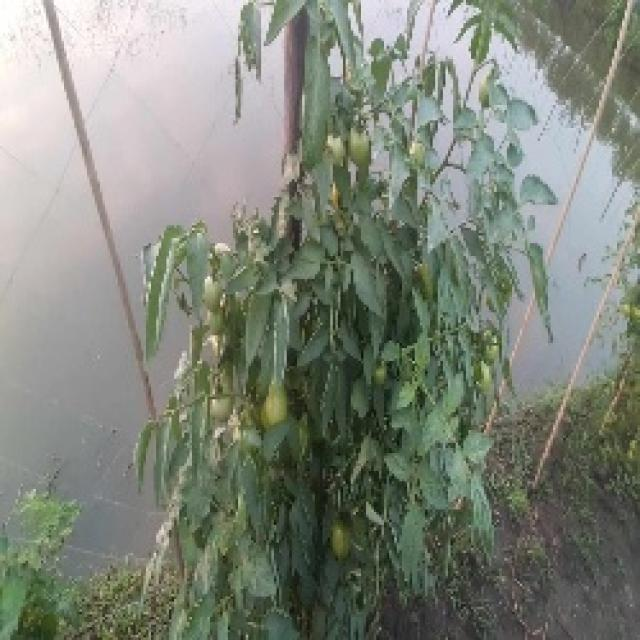tomato: (254, 382, 297, 423), (344, 121, 382, 166), (199, 277, 239, 311), (211, 393, 244, 429), (330, 521, 351, 556), (471, 77, 495, 107), (375, 364, 395, 388), (329, 133, 345, 158), (410, 142, 432, 159), (483, 360, 496, 388), (206, 311, 225, 330)
